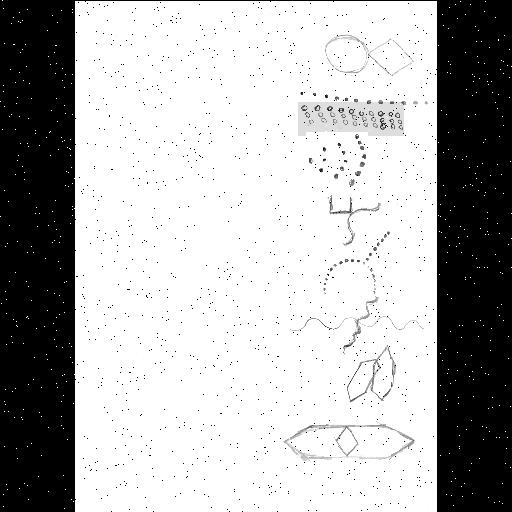shape-1: (322, 26, 414, 80)
shape-2: (298, 86, 430, 106)
shape-3: (298, 102, 404, 136)
shape-4: (306, 132, 368, 186)
shape-5: (326, 188, 382, 248)
shape-6: (320, 228, 392, 298)
shape-7: (288, 296, 424, 356)
shape-8: (346, 342, 396, 412)
shape-9: (283, 422, 417, 464)
